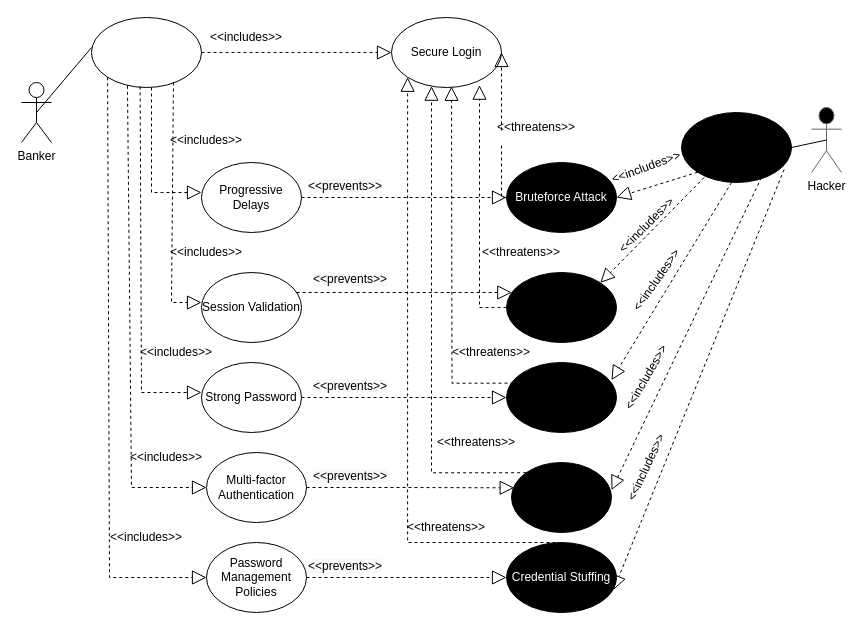
This 862x630 diagram has some shape labels left out. Each missing label, with the centre of its shape:
Access Customer Profiles and Transactions: the point at 146,52
Dictionary Attack: the point at 561,397
Key logger Attack: the point at 561,497
Session Hijack: the point at 561,307
Unauthorized Access: the point at 736,147
